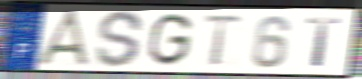6: (250, 13, 292, 70)
A: (34, 8, 95, 68)
G: (145, 12, 195, 68)
S: (93, 8, 146, 69)
T: (201, 13, 246, 68), (305, 16, 344, 69)
